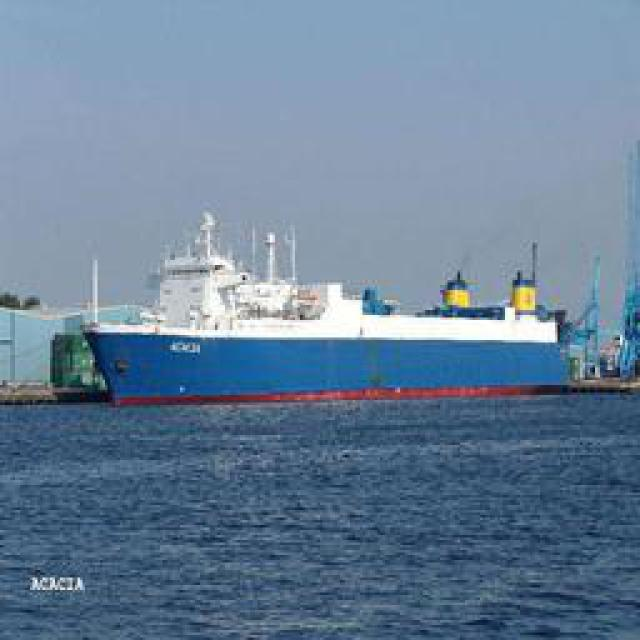Ship: (84, 233, 577, 408)
